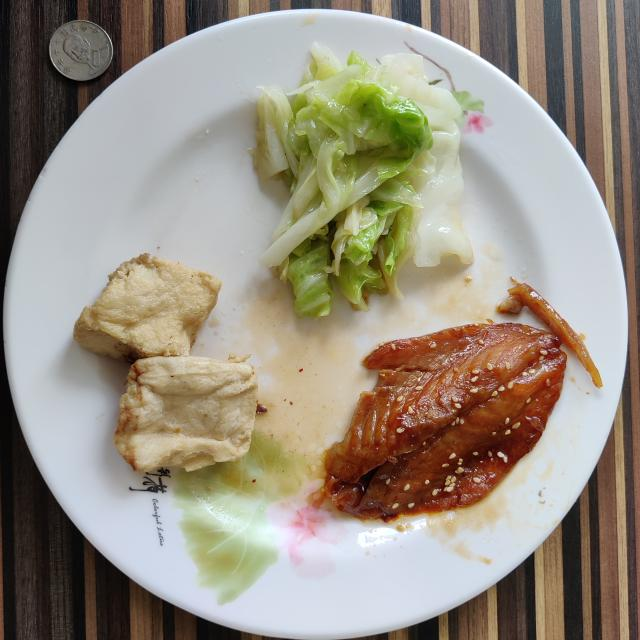Kabayaki sea bream fillet: (310, 282, 602, 521)
cabbage: (251, 42, 472, 318)
coin: (49, 20, 112, 81)
creamy tofu -without sauce-: (74, 254, 258, 471)
